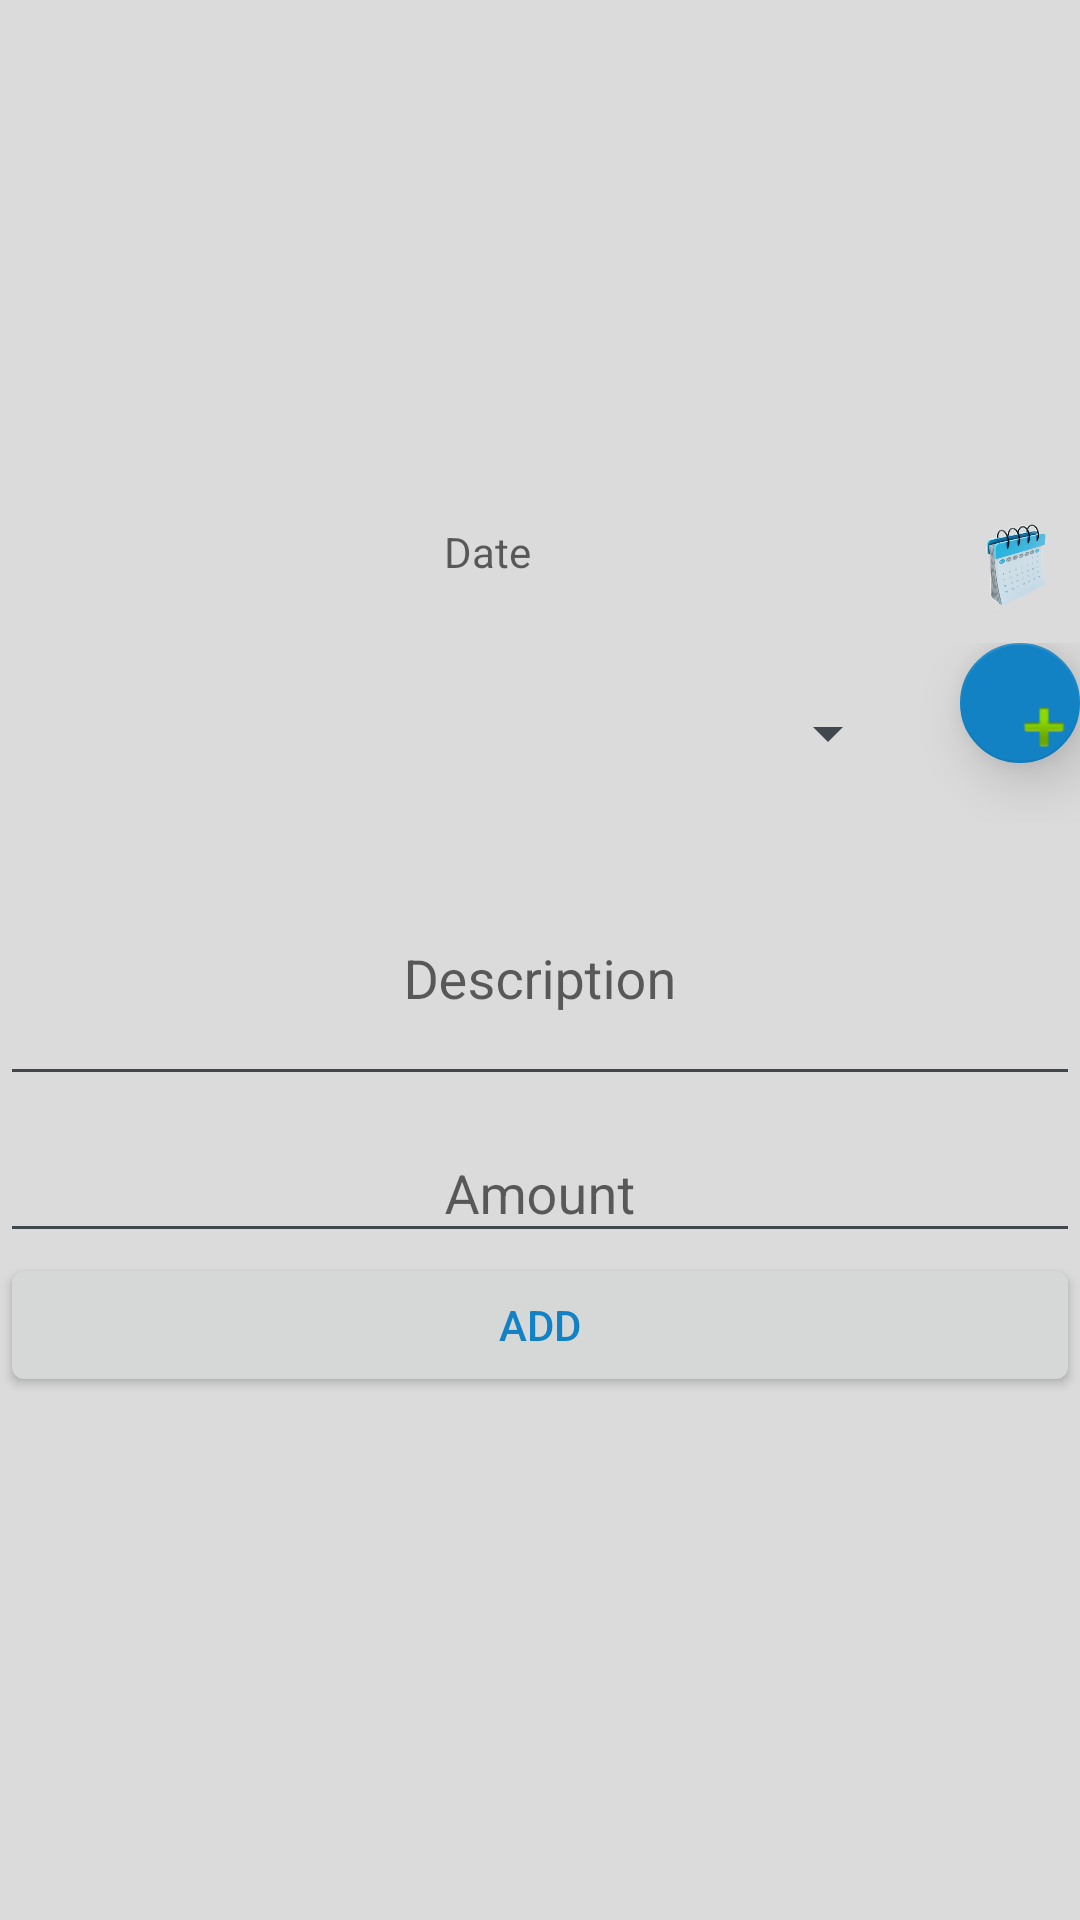

Icon click points for this 1080px×1920px phone screenshot, format point (x, y):
add: point (1020, 703)
expesecalendar: point (1016, 564)
